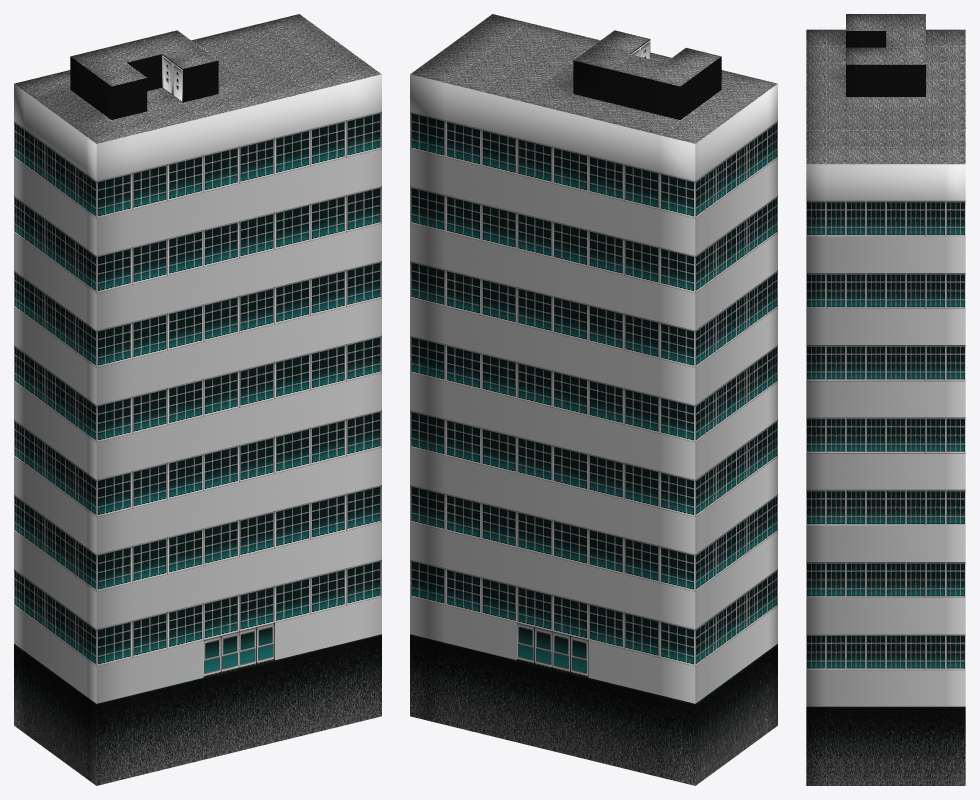
The model's file is kantoor_mod2_1a.fbx.
The picture shows the model from 3 angles, left to right: view 1: azimuth 30°, elevation 25°; view 2: azimuth 150°, elevation 25°; view 3: azimuth 270°, elevation 25°; orthographic projection. The views are drawn at different scales.
Parts seen in each view (by area): view 1: kantoor_mod3_1a; view 2: kantoor_mod3_1a; view 3: kantoor_mod3_1a.
Part boxes in pixels (x1,y1,x2,y2): kantoor_mod3_1a: (14,14,381,785); kantoor_mod3_1a: (410,14,777,785); kantoor_mod3_1a: (806,14,965,785).
Bounding box in the file's own units: 2880 × 6516 × 1440.
